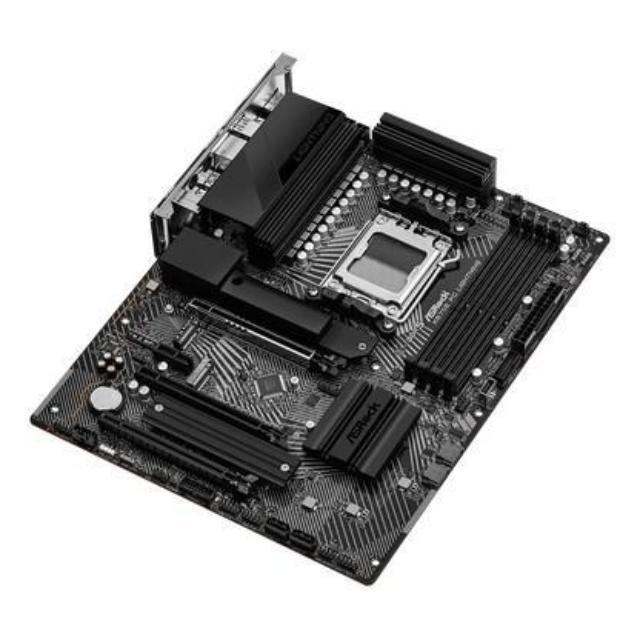Mainboard: (36, 48, 612, 588)
